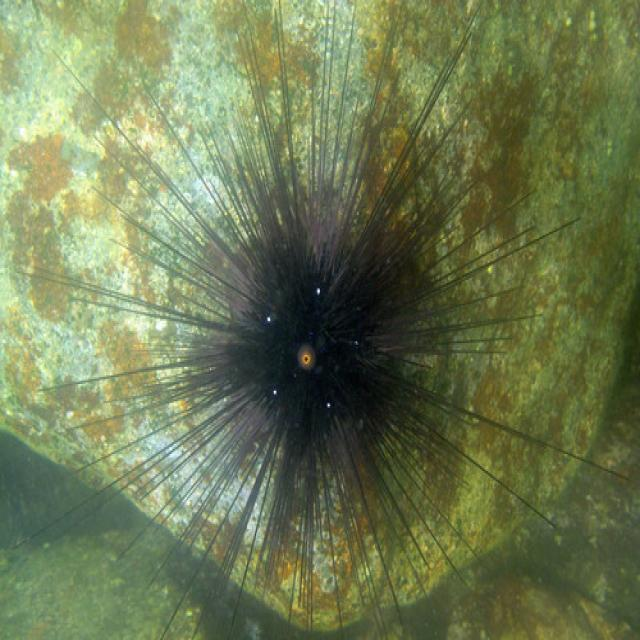Urchin: (74, 20, 593, 598)
